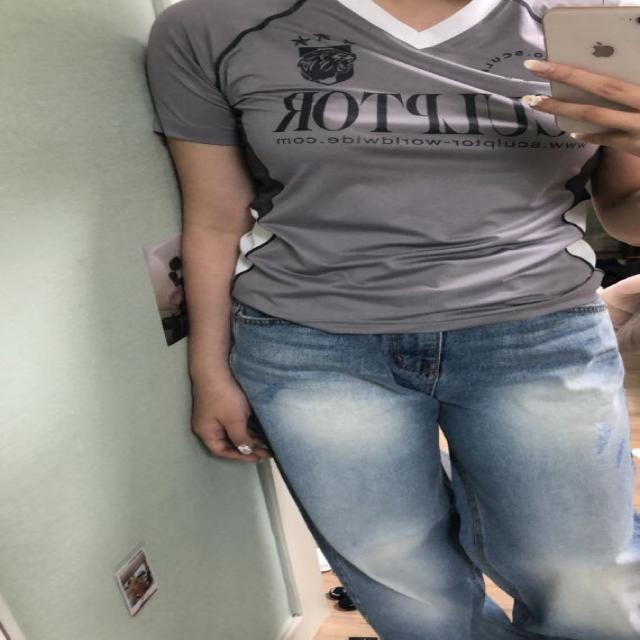denimpants: (233, 299, 639, 637)
shortsleeve: (150, 0, 640, 332)
